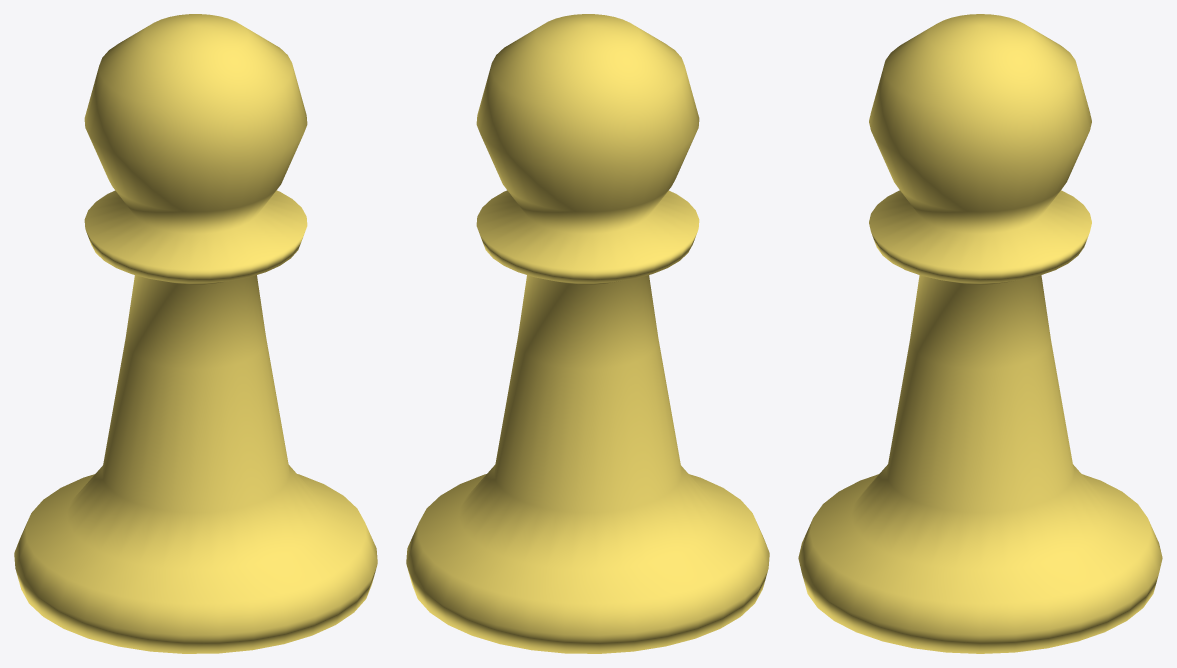
File: DiceDashPawn.glb
3 views of the same model, side by side, from view 1: azimuth 30°, elevation 25°; view 2: azimuth 150°, elevation 25°; view 3: azimuth 270°, elevation 25° (orthographic).
Parts seen in each view (by area): view 1: Body; view 2: Body; view 3: Body.
Boxes of the visible parts, x1,y1,x2,y2 form: Body: (14,14,377,653); Body: (406,14,769,653); Body: (798,14,1162,653).
Bounding box in the file's own units: 6.2 × 10.4 × 6.2.
